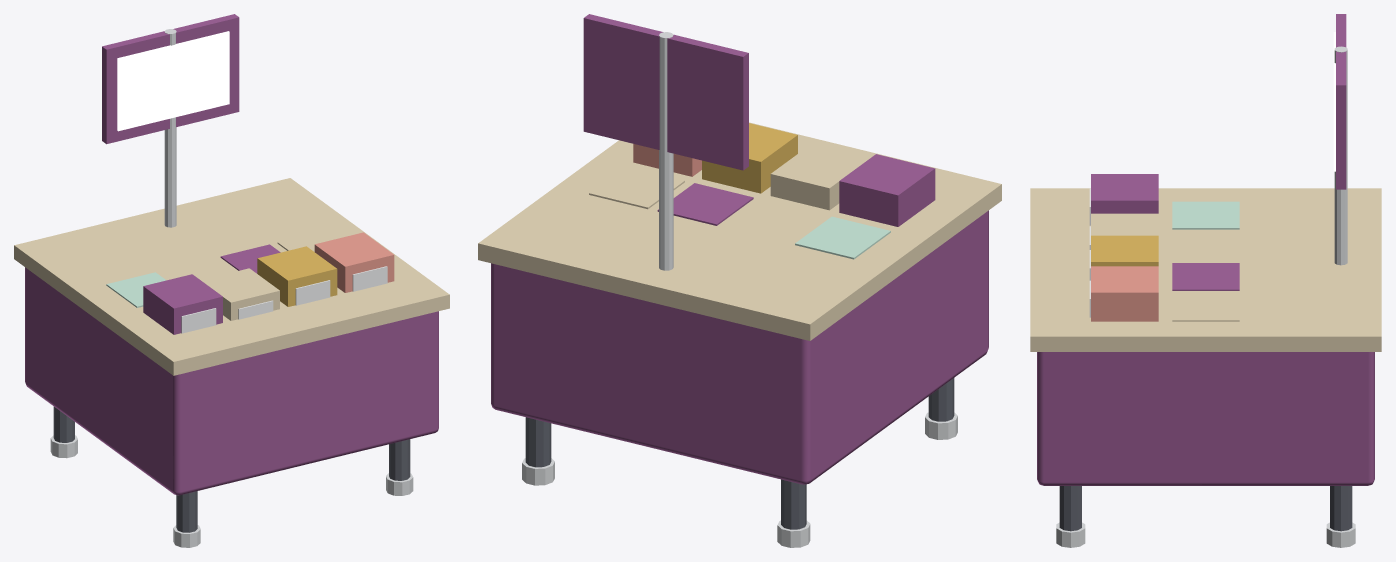
Rendered from pharmacy-and-high-street-chemist-seasonal-dump-bin-bc4a08fc__37510.glb.
3 views of the same model, side by side, from view 1: azimuth 30°, elevation 25°; view 2: azimuth 150°, elevation 25°; view 3: azimuth 270°, elevation 25° (orthographic). The views are drawn at different scales.
Parts seen in each view (by area): view 1: seasonal-dump-bin; view 2: seasonal-dump-bin; view 3: seasonal-dump-bin.
Part boxes in pixels (bbox=[...]): seasonal-dump-bin: bbox=[14, 14, 449, 547]; seasonal-dump-bin: bbox=[478, 14, 1001, 547]; seasonal-dump-bin: bbox=[1030, 14, 1381, 547].
Size of the model in its own units: 1.04 by 1.42 by 1.04.
